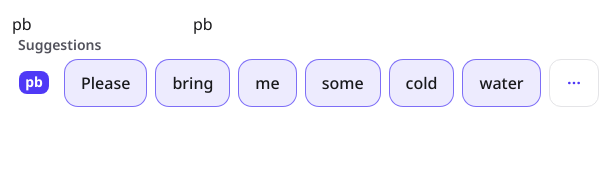
it: retains a phrase-code continuation after the code is consumed
Click the button "water" at (502, 83), box left=462, top=59, right=541, bottom=107
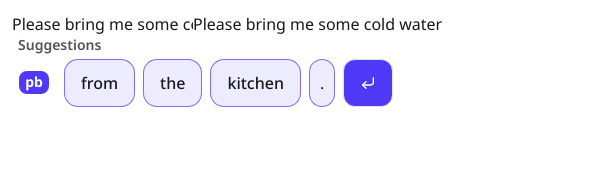
Expected: the text "Please bring me some cold water" is shown, left=193, top=13, right=442, bottom=35
Expected: the button "kitchen" is shown
Click the button "kitchen" at (256, 83), box left=210, top=59, right=301, bottom=107
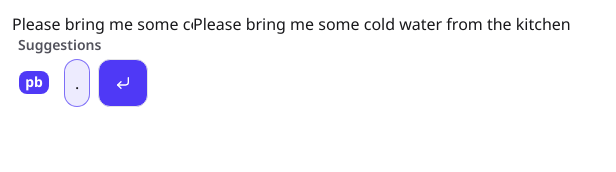
Expected: the text "Please bring me some cold water from the kitchen" is shown, left=193, top=13, right=571, bottom=35
